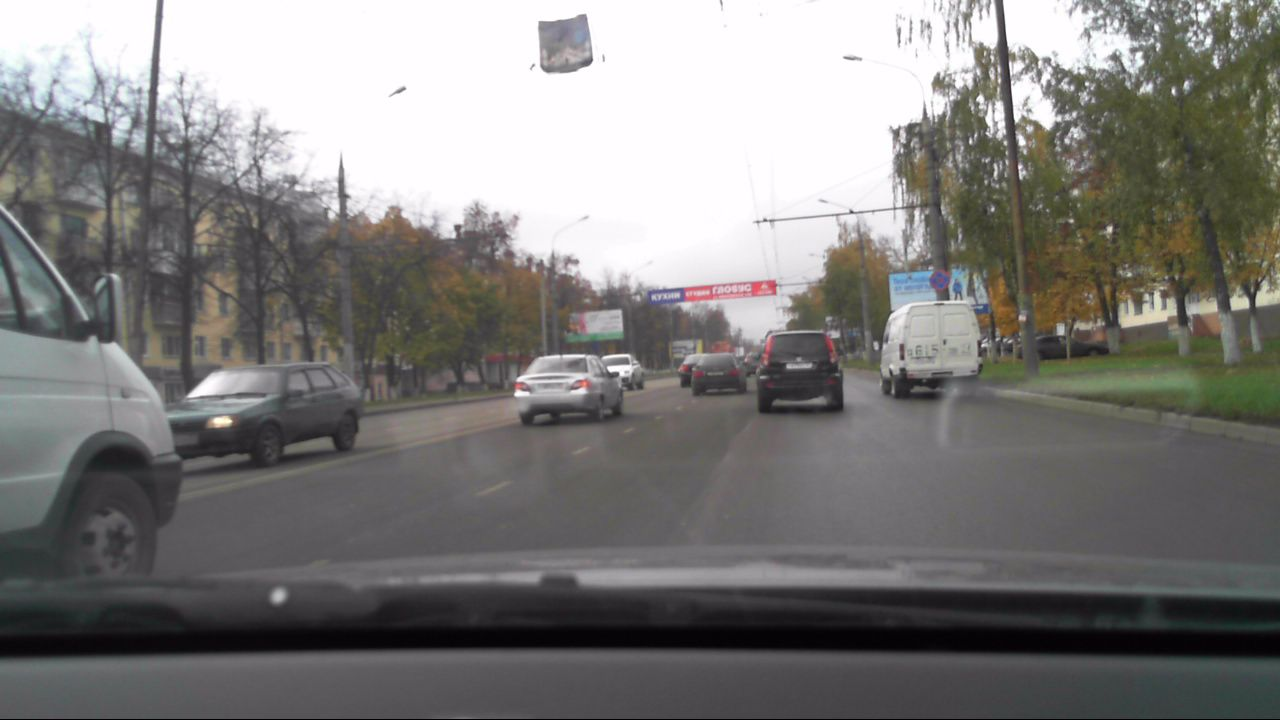No Parking: (928, 268, 952, 295)
